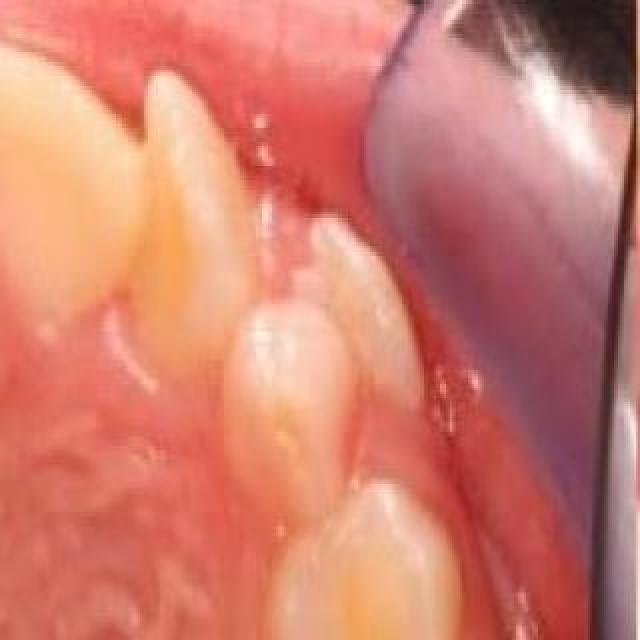maligned: (0, 42, 152, 316), (125, 70, 261, 372), (218, 276, 364, 518), (285, 202, 441, 382)
